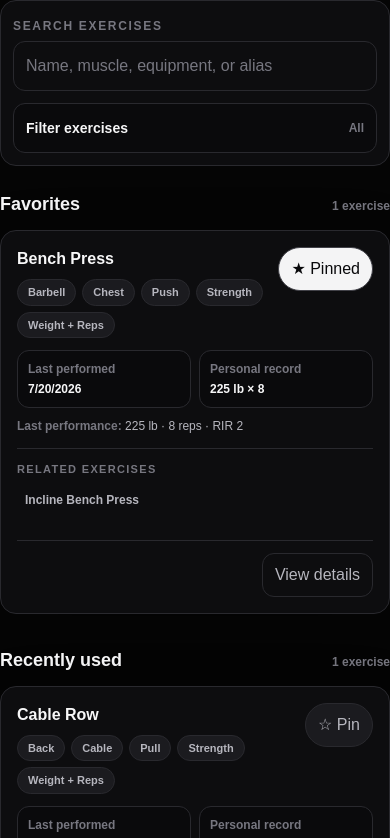
Test: ExerciseLibraryBrowser › renders rich history, PR, related links, and helpful empty results
Expected: the 1st list item "Weight + reps" is shown, [17,312,115,338]
Expected: the link "7/20/2026" is shown, [28,382,81,396]
Type "unknown movement" into the search field labelled "Search exercises" at (195, 66), box [13,41,377,91]
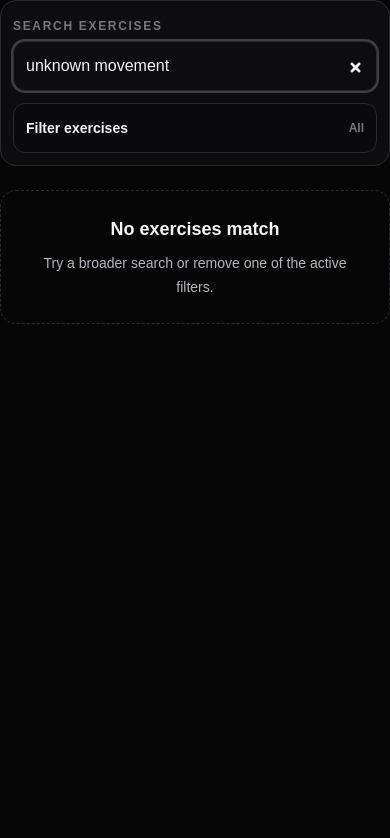
Result: the message shows "No exercises match" at [110,219,280,239]
